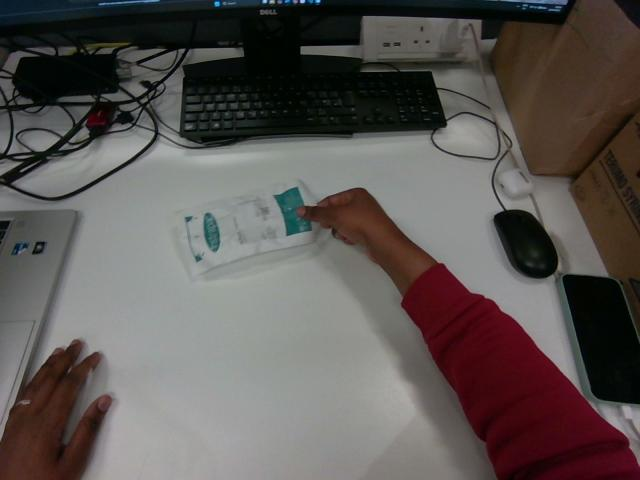gallipot: (174, 180, 317, 278)
